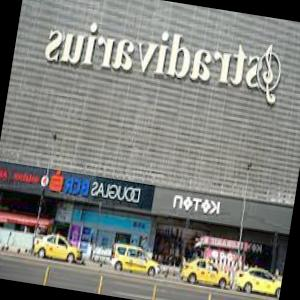stradivarius: (37, 0, 293, 113)
